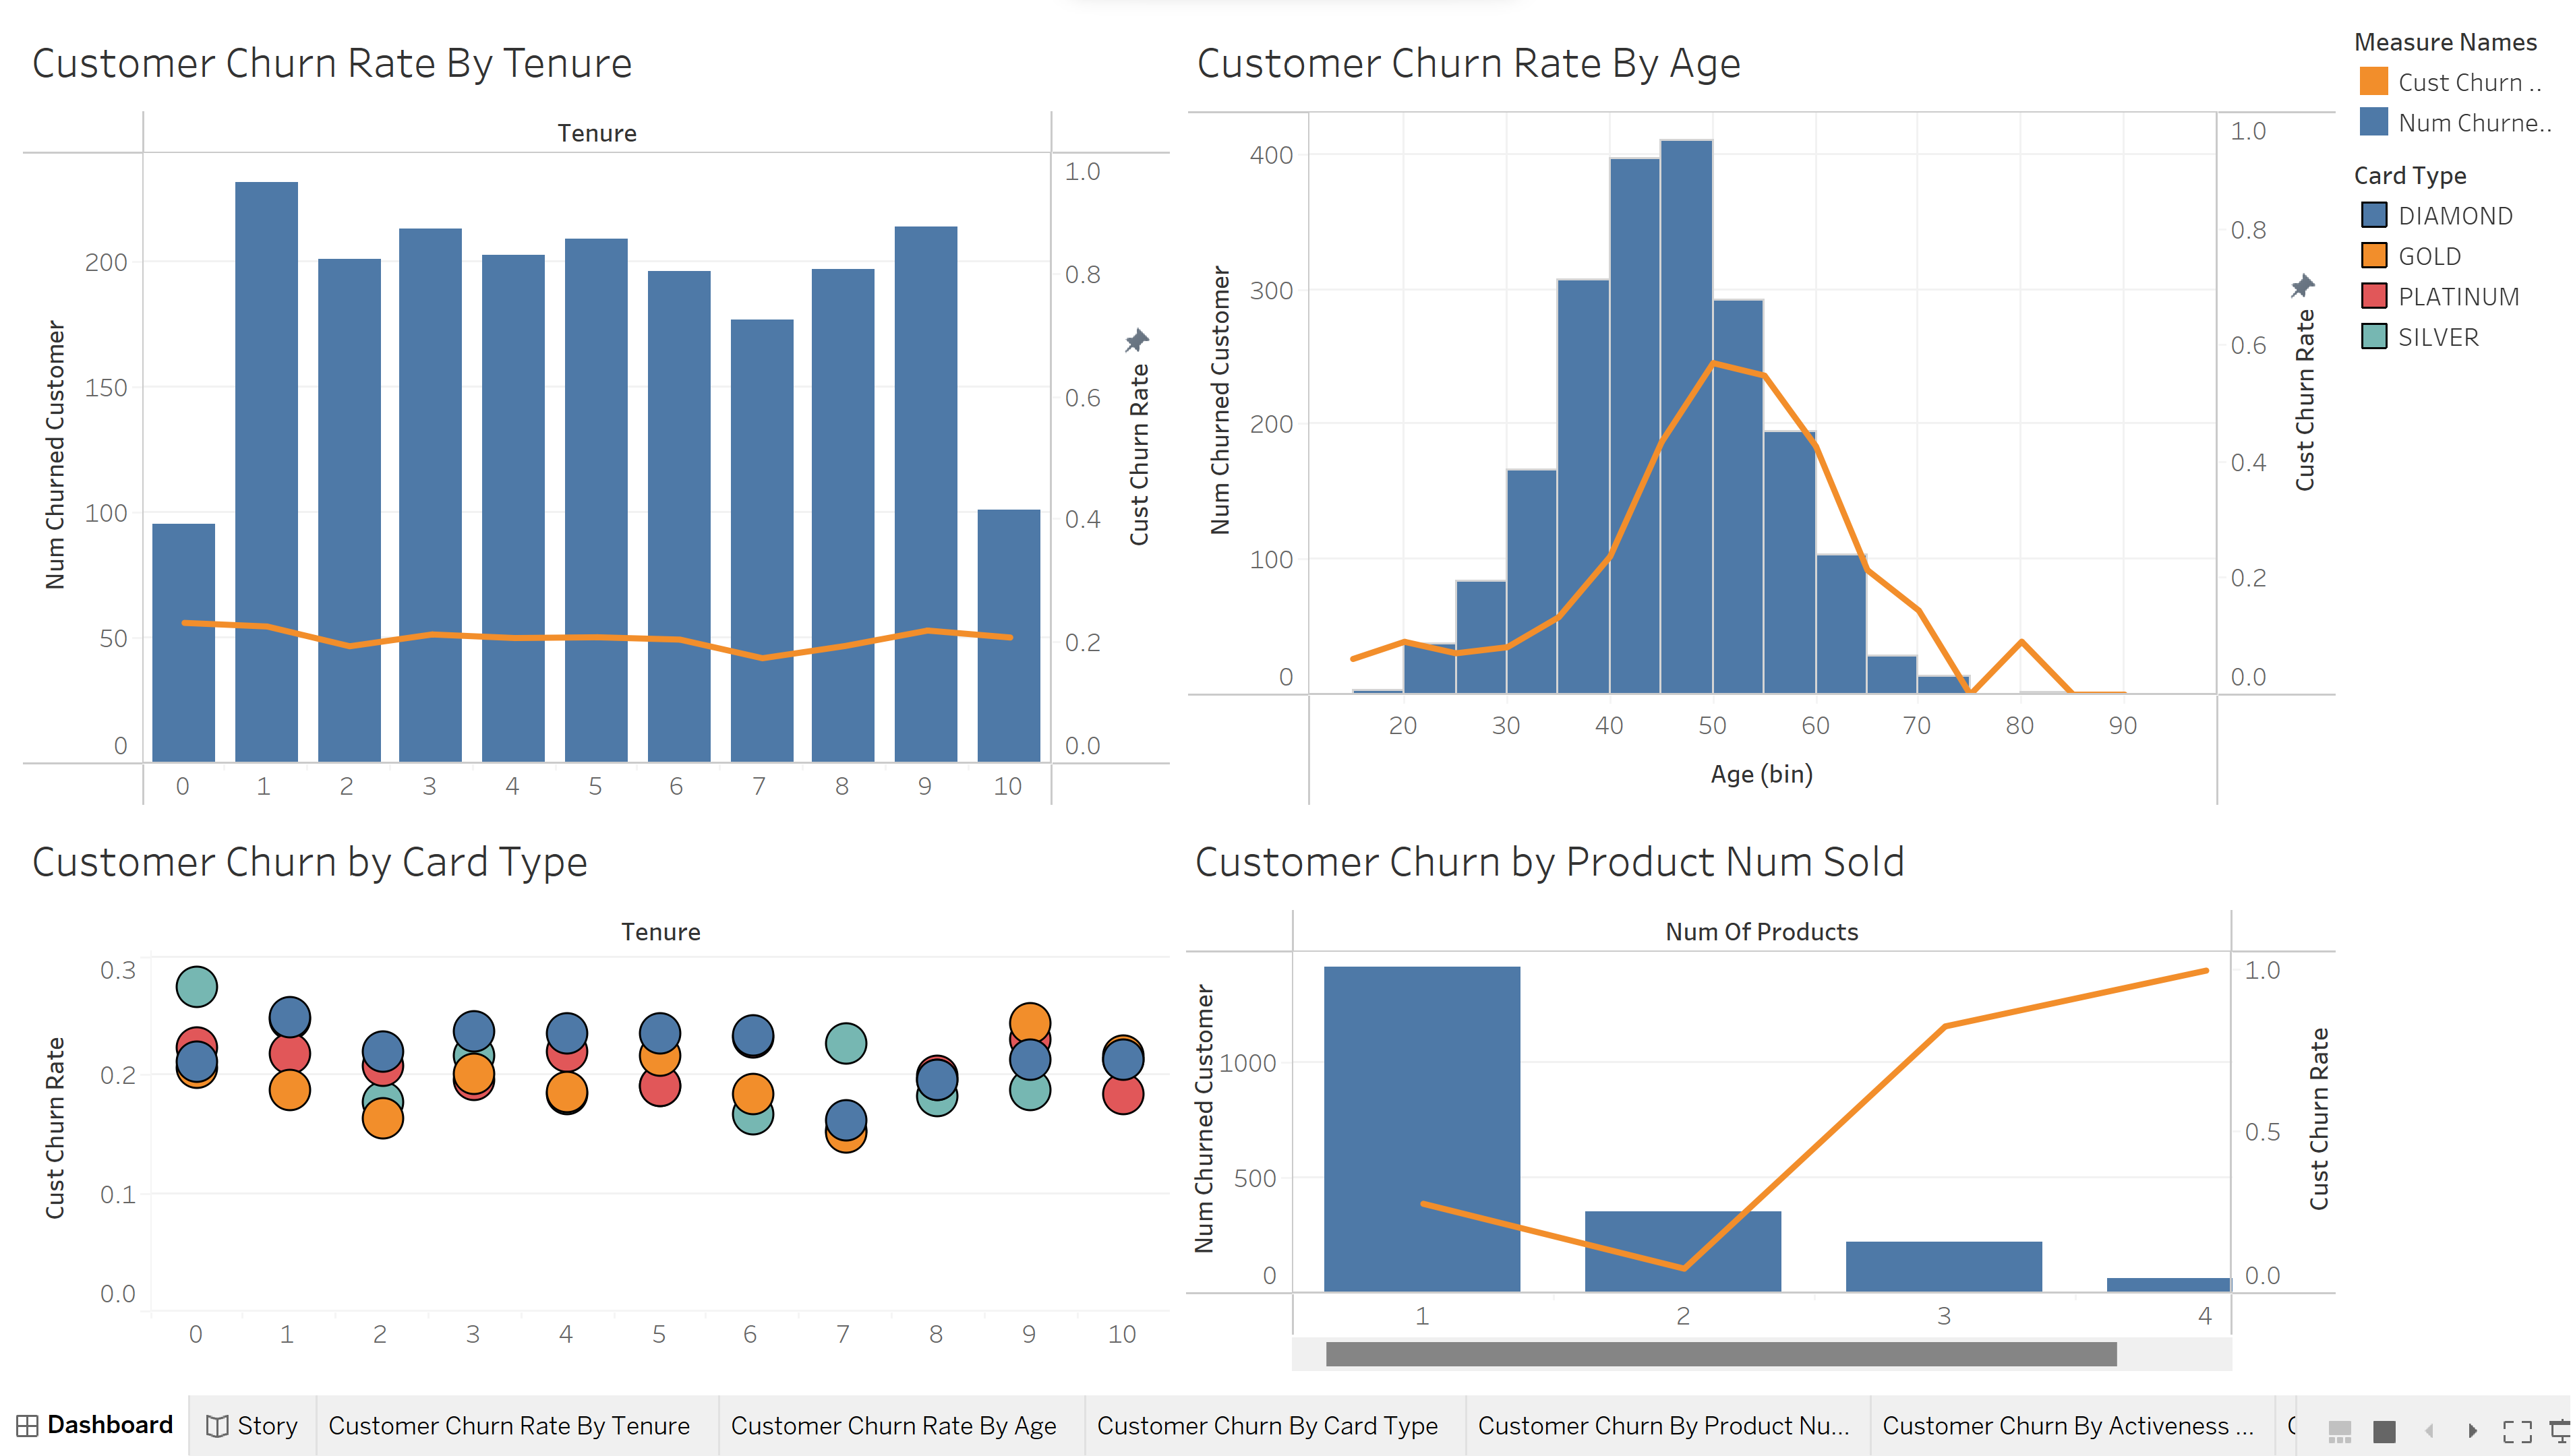

Layout of this report page (visuals, bound fields, positions):
{"tool":"tableau","page":{"name":"Dashboard","canvas":[1000,1000],"units":"permille","ordinal":0},"visuals":[{"type":"worksheet","title":"Customer Churn Rate By Tenure","mark":"Automatic","rows":["Calculation_1424544916435247108","Calculation_1424544916432994307"],"cols":["Tenure"],"box":[6.4,15.1,448.5,568.5]},{"type":"worksheet","title":"Customer Churn Rate By Age","mark":"Automatic","rows":["Calculation_1424544916435247108","Calculation_1424544916432994307"],"cols":["Age (bin) 2"],"box":[454.9,15.1,449.1,568.5]},{"type":"legend","title":"Customer Churn Rate By Tenure","param":"[federated.1mce6bg1w2rbu41gm81bx114esiv].[:Measure Names]","box":[904,15.1,89.6,124.8]},{"type":"legend","title":"Customer Churn By Card Type","param":"[federated.1mce6bg1w2rbu41gm81bx114esiv].[none:Card Type:nk]","box":[904,139.9,89.6,200.4]},{"type":"worksheet","title":"Customer Churn By Card Type","mark":"Circle","rows":["Calculation_1424544916432994307"],"cols":["Tenure"],"box":[6.4,583.7,448.4,401.2]},{"type":"worksheet","title":"Customer Churn By Product Num Sold","mark":"Automatic","rows":["Calculation_1424544916435247108","Calculation_1424544916432994307"],"cols":["NumOfProducts"],"box":[454.8,583.7,449.2,401.2]}]}

Visuals, with their boxes on the dashboard's canvas, which has no fixed pixel size, in thousandths of its width and height (x1, y1, x2, y2). These are canvas units, not pixel positions in the 2571x1456 screenshot, which may show the page scaled, cropped or inside an application window:
"Customer Churn Rate By Tenure" worksheet: bbox(6, 15, 455, 584)
"Customer Churn Rate By Age" worksheet: bbox(455, 15, 904, 584)
"Customer Churn Rate By Tenure" legend: bbox(904, 15, 994, 140)
"Customer Churn By Card Type" legend: bbox(904, 140, 994, 340)
"Customer Churn By Card Type" worksheet (Circle marks): bbox(6, 584, 455, 985)
"Customer Churn By Product Num Sold" worksheet: bbox(455, 584, 904, 985)
